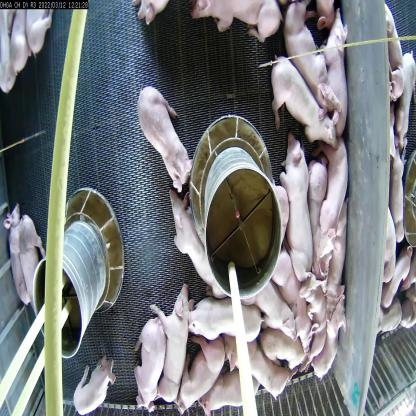Pig: (267, 56, 338, 156), (137, 80, 193, 198), (164, 197, 224, 302), (152, 284, 193, 415), (190, 0, 287, 55), (278, 140, 315, 284), (186, 284, 266, 340), (319, 127, 349, 271), (272, 244, 313, 338), (282, 7, 328, 89), (313, 294, 351, 391), (201, 362, 269, 415), (318, 24, 352, 124), (4, 197, 34, 307), (178, 343, 226, 410), (22, 212, 50, 323), (300, 264, 328, 375), (248, 281, 301, 338), (244, 339, 293, 400), (134, 314, 165, 410), (249, 324, 309, 368), (71, 356, 118, 411)
